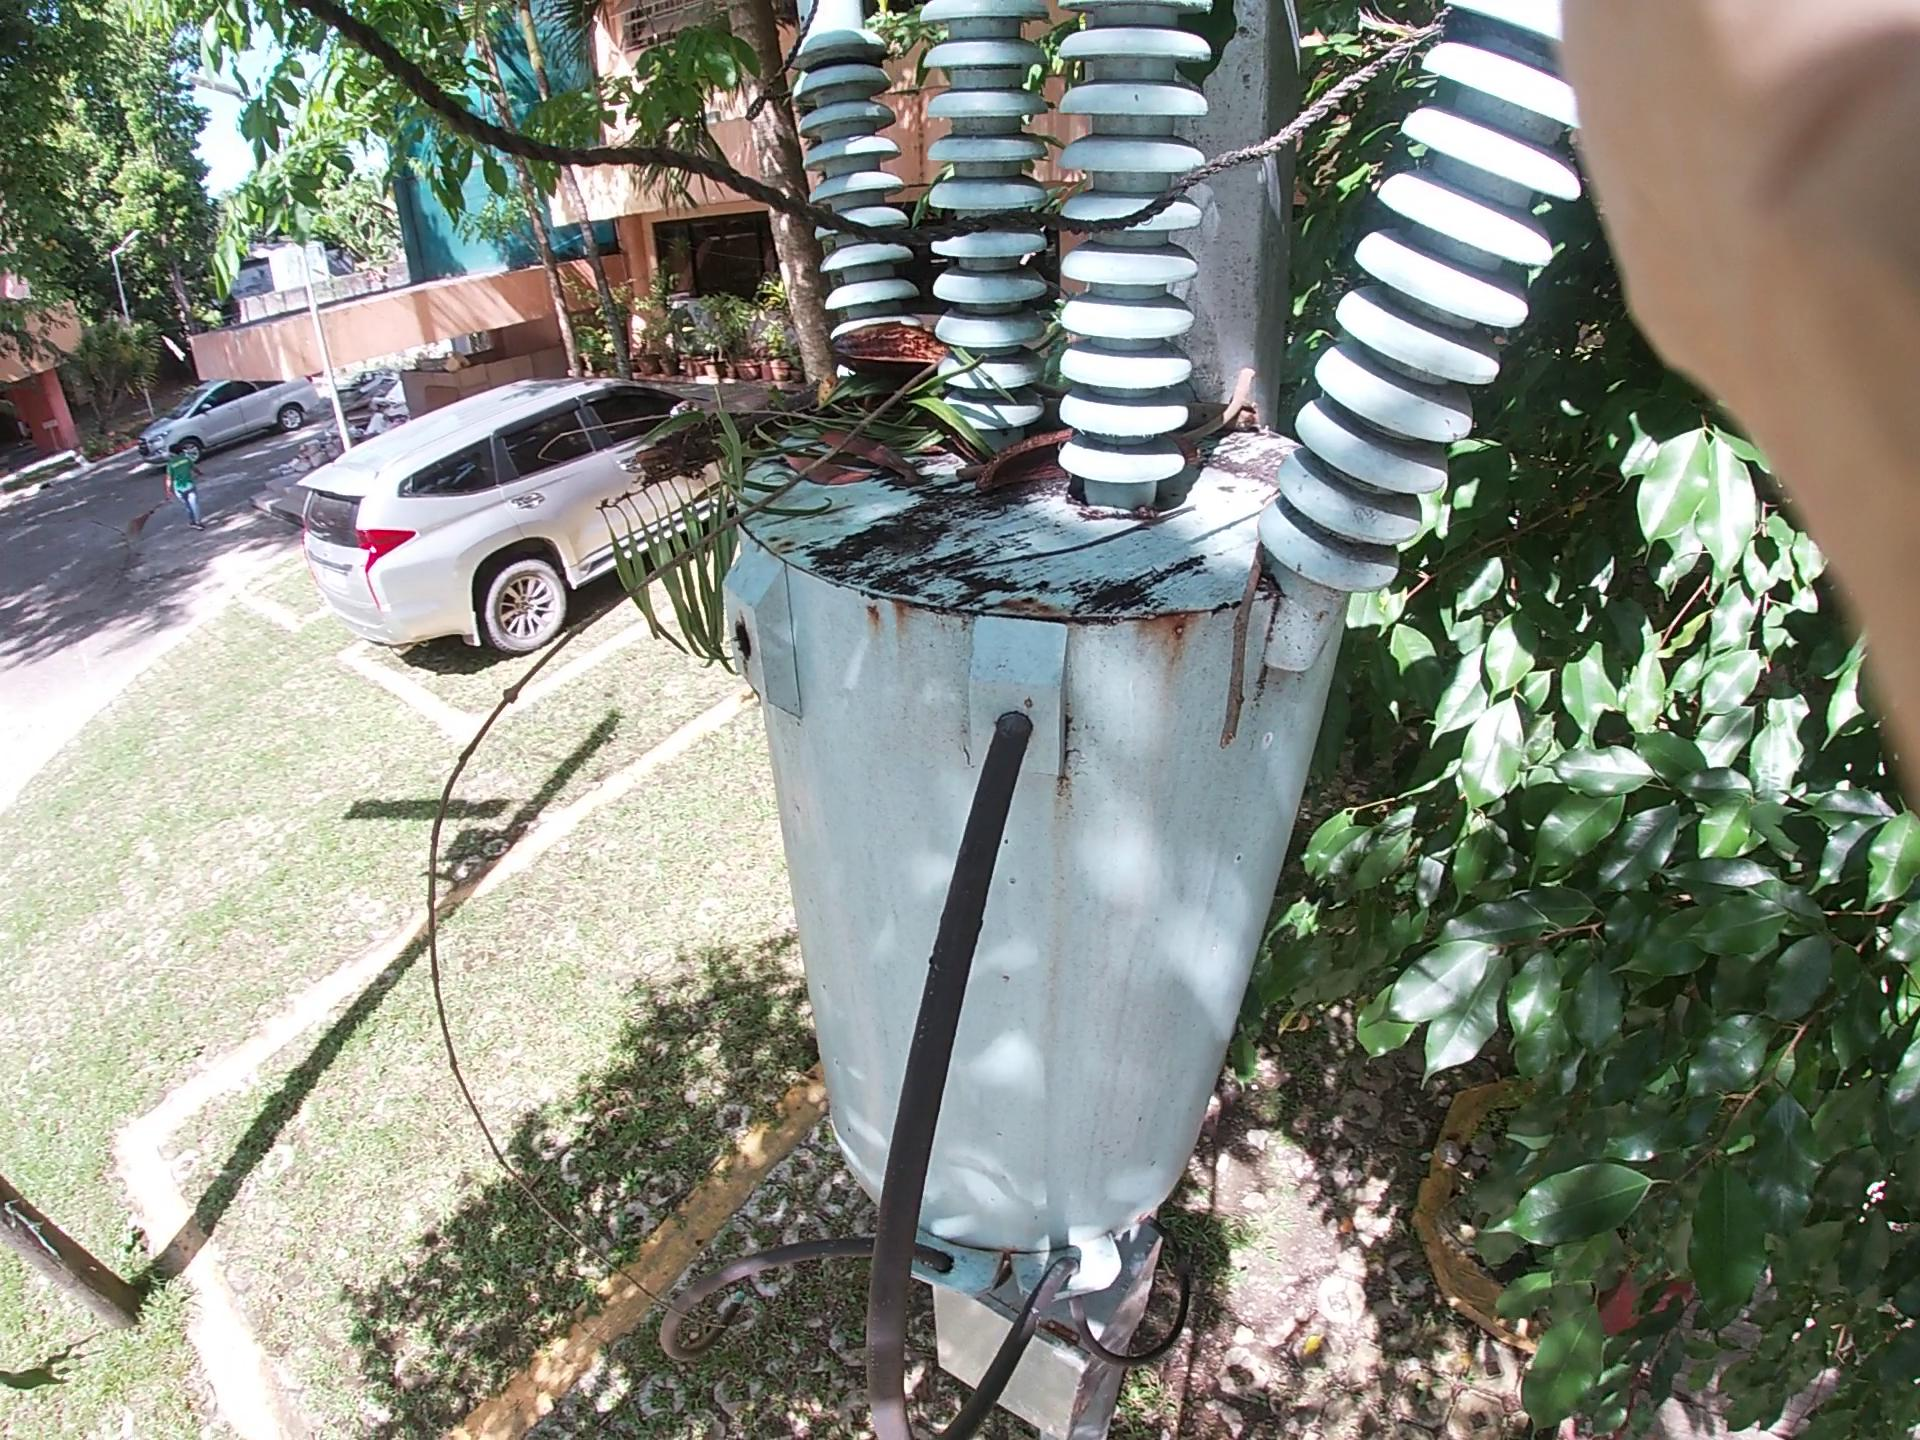branch with leaves: (650, 260, 1014, 579)
leaf: (714, 390, 883, 507)
mahogany fruit: (794, 228, 1064, 436), (937, 384, 1169, 576)
tree branch: (389, 195, 1119, 782), (800, 369, 1293, 510), (1209, 451, 1277, 800)
